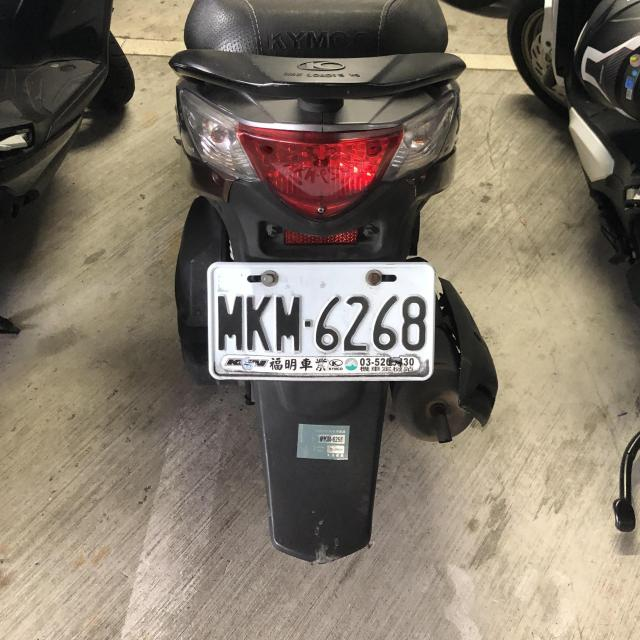W: (204, 258, 437, 385)
